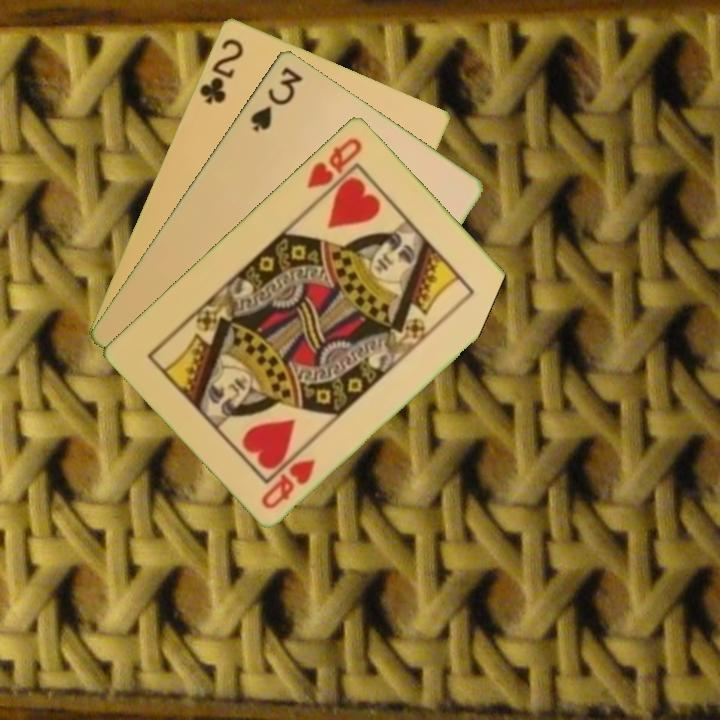2c: (195, 34, 246, 107)
3s: (246, 63, 306, 134)
Qh: (303, 133, 365, 191), (257, 454, 318, 511)
